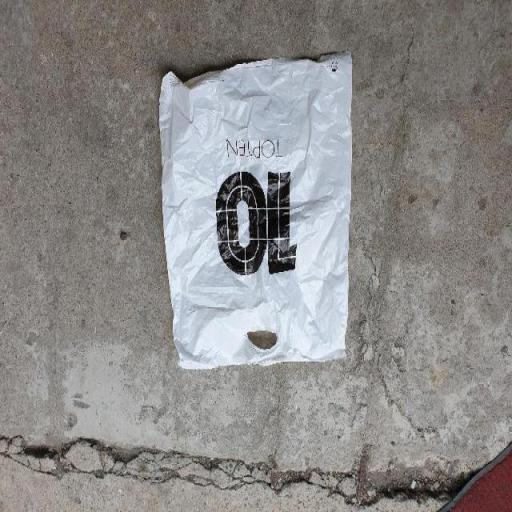plastic-bag: (156, 48, 354, 371)
